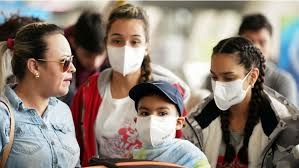with_mask: (209, 54, 259, 111), (133, 97, 183, 149), (103, 21, 150, 76)
without_mask: (27, 42, 76, 99)
